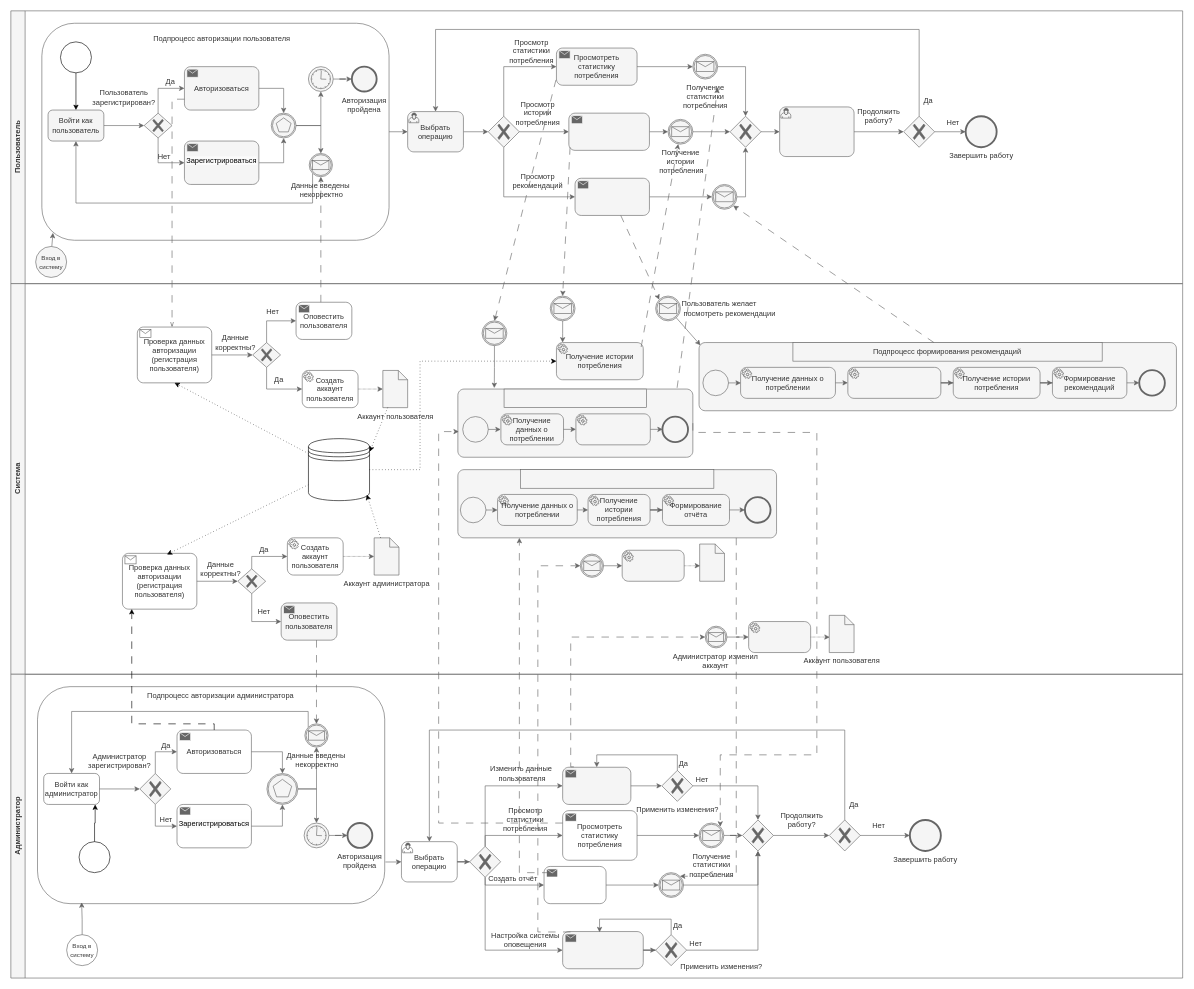
This 1194x989 diagram has some shape labels left out. Here are the shapes that lost their labels. From the top down, the centre of each, then its label:
(608,131): Просмотреть историю потребления
(816,131): Получить информацию
(611,196): Просмотреть рекомендации
(724,196): Получение рекомендаций
(562,308): Пользователь желает посмотреть историю потребления
(494,333): Пользователь желает посмотреть статистику потребления
(575,398): Подпроцесс формирования статистики потребления
(894,382): Получение данных о энергоресурсах
(612,429): Формирование статистики
(339,469): БД системы
(617,478): Подпроцесс формирования отчёта
(592,565): Администратор изменил систему оповещений
(653,565): Сохранить изменения в настройках
(711,562): Настройки
(779,637): Сохранить изменённый аккаунт
(596,785): Изменение данных пользователя
(574,885): Создание отчёта
(671,884): Получение отчёта
(602,950): Добавление изменений в систему оповещения
